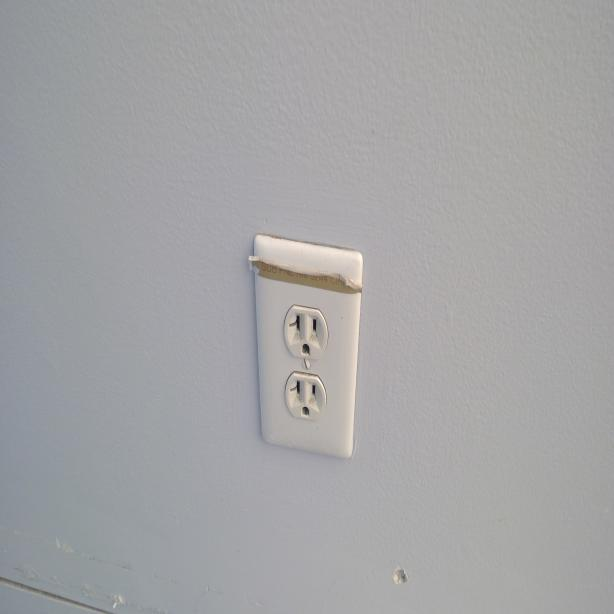typeb: (284, 304, 326, 366), (290, 374, 326, 426)
